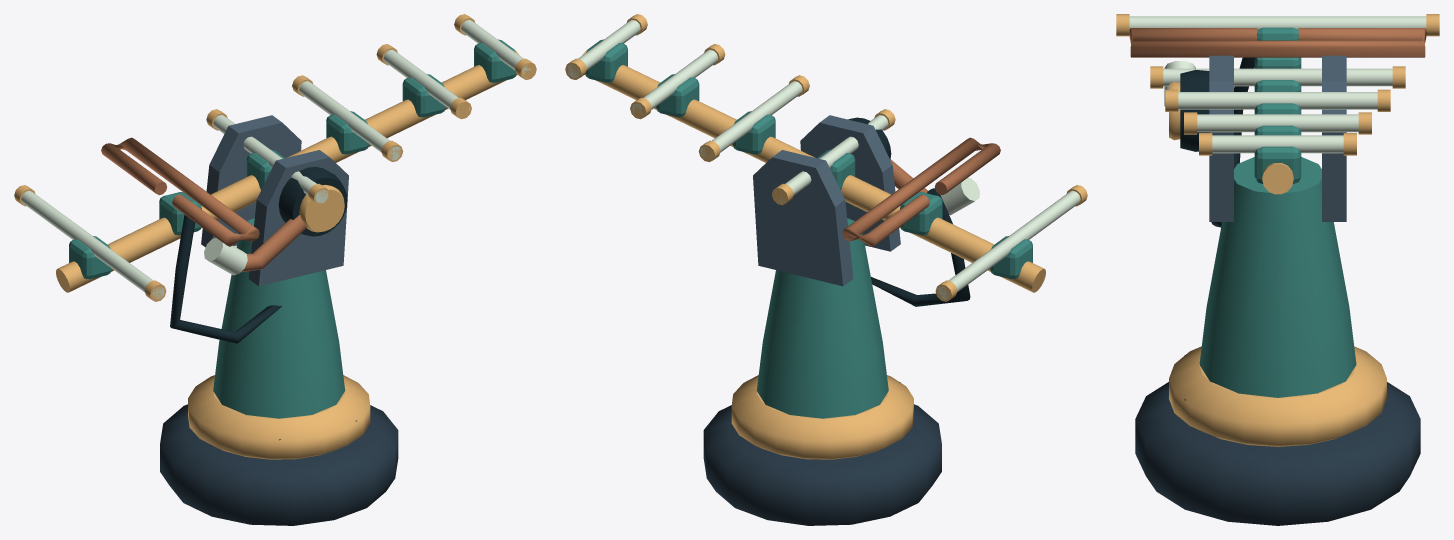
3 views of the same model, side by side, from view 1: azimuth 30°, elevation 25°; view 2: azimuth 150°, elevation 25°; view 3: azimuth 270°, elevation 25° (orthographic). The views are drawn at different scales.
Parts seen in each view (by area): view 1: PR061 enamel and hardware; view 2: PR061 enamel and hardware; view 3: PR061 enamel and hardware.
Boxes of the visible parts, bbox=[...] form: PR061 enamel and hardware: bbox=[14, 14, 536, 525]; PR061 enamel and hardware: bbox=[565, 14, 1087, 525]; PR061 enamel and hardware: bbox=[1116, 14, 1439, 525].
Size of the model in its own units: 1.65 by 1.33 by 0.8455.
